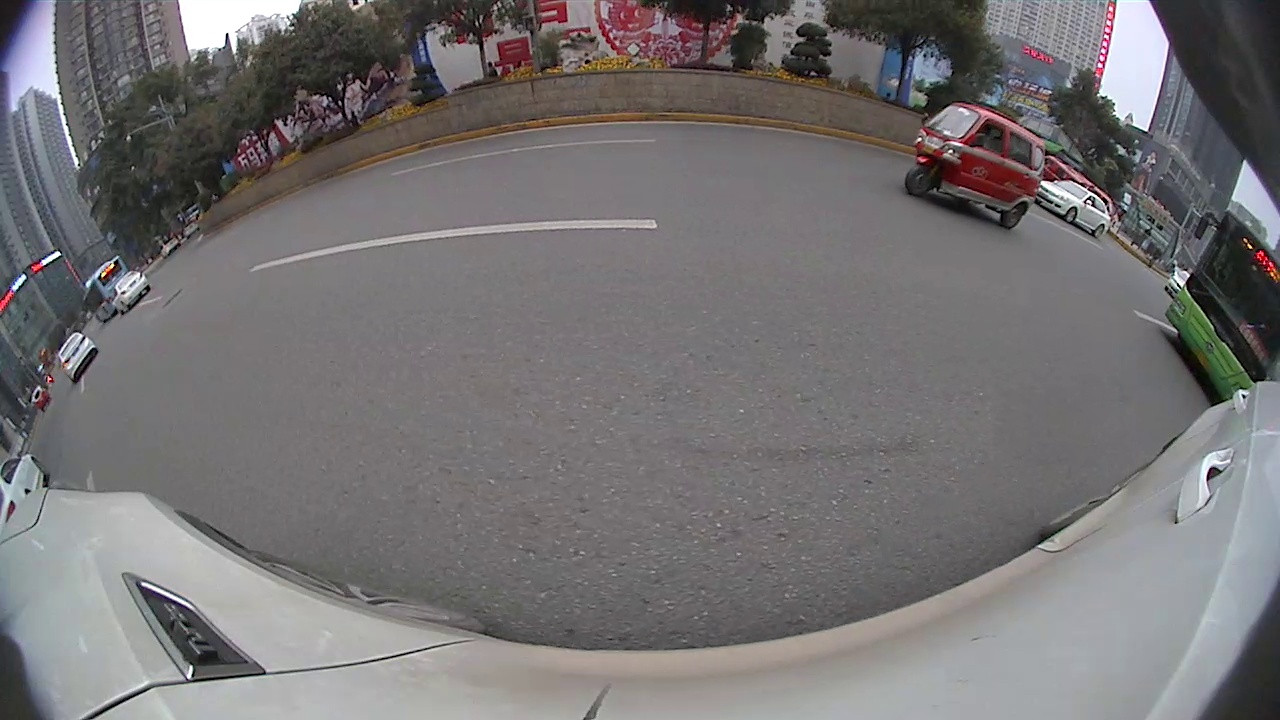bus: (1163, 208, 1278, 406), (79, 256, 128, 324)
car: (1035, 177, 1111, 241), (0, 455, 48, 534), (56, 330, 99, 385), (112, 268, 151, 314)
front: (900, 163, 940, 200), (1062, 207, 1081, 227)
rear: (998, 202, 1024, 231), (1092, 223, 1109, 241)
rider: (902, 100, 1045, 233)
